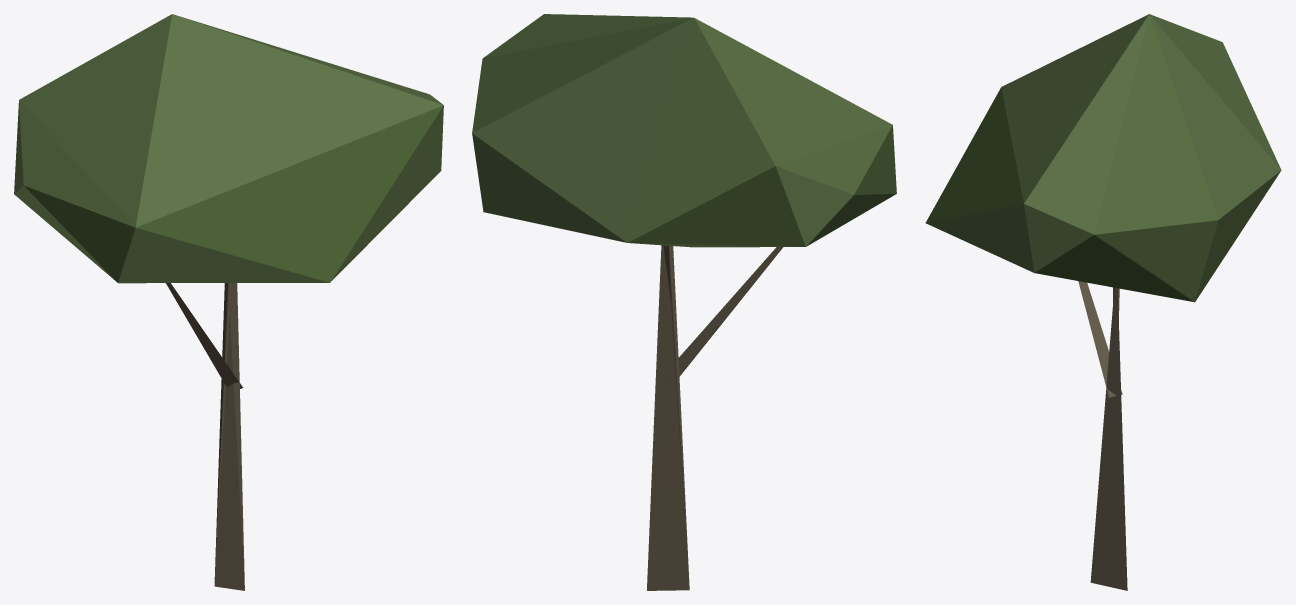
The model's file is plane_shell.glb.
3 views of the same model, side by side, from view 1: azimuth 30°, elevation 25°; view 2: azimuth 150°, elevation 25°; view 3: azimuth 270°, elevation 25° (orthographic). The views are drawn at different scales.
Parts seen in each view (by area): view 1: plane_source_shell; view 2: plane_source_shell; view 3: plane_source_shell.
Boxes of the visible parts, bbox=[...] form: plane_source_shell: bbox=[14, 14, 443, 590]; plane_source_shell: bbox=[472, 14, 896, 590]; plane_source_shell: bbox=[925, 14, 1281, 590].
Bounding box in the file's own units: 9.43 × 13.46 × 7.89.
